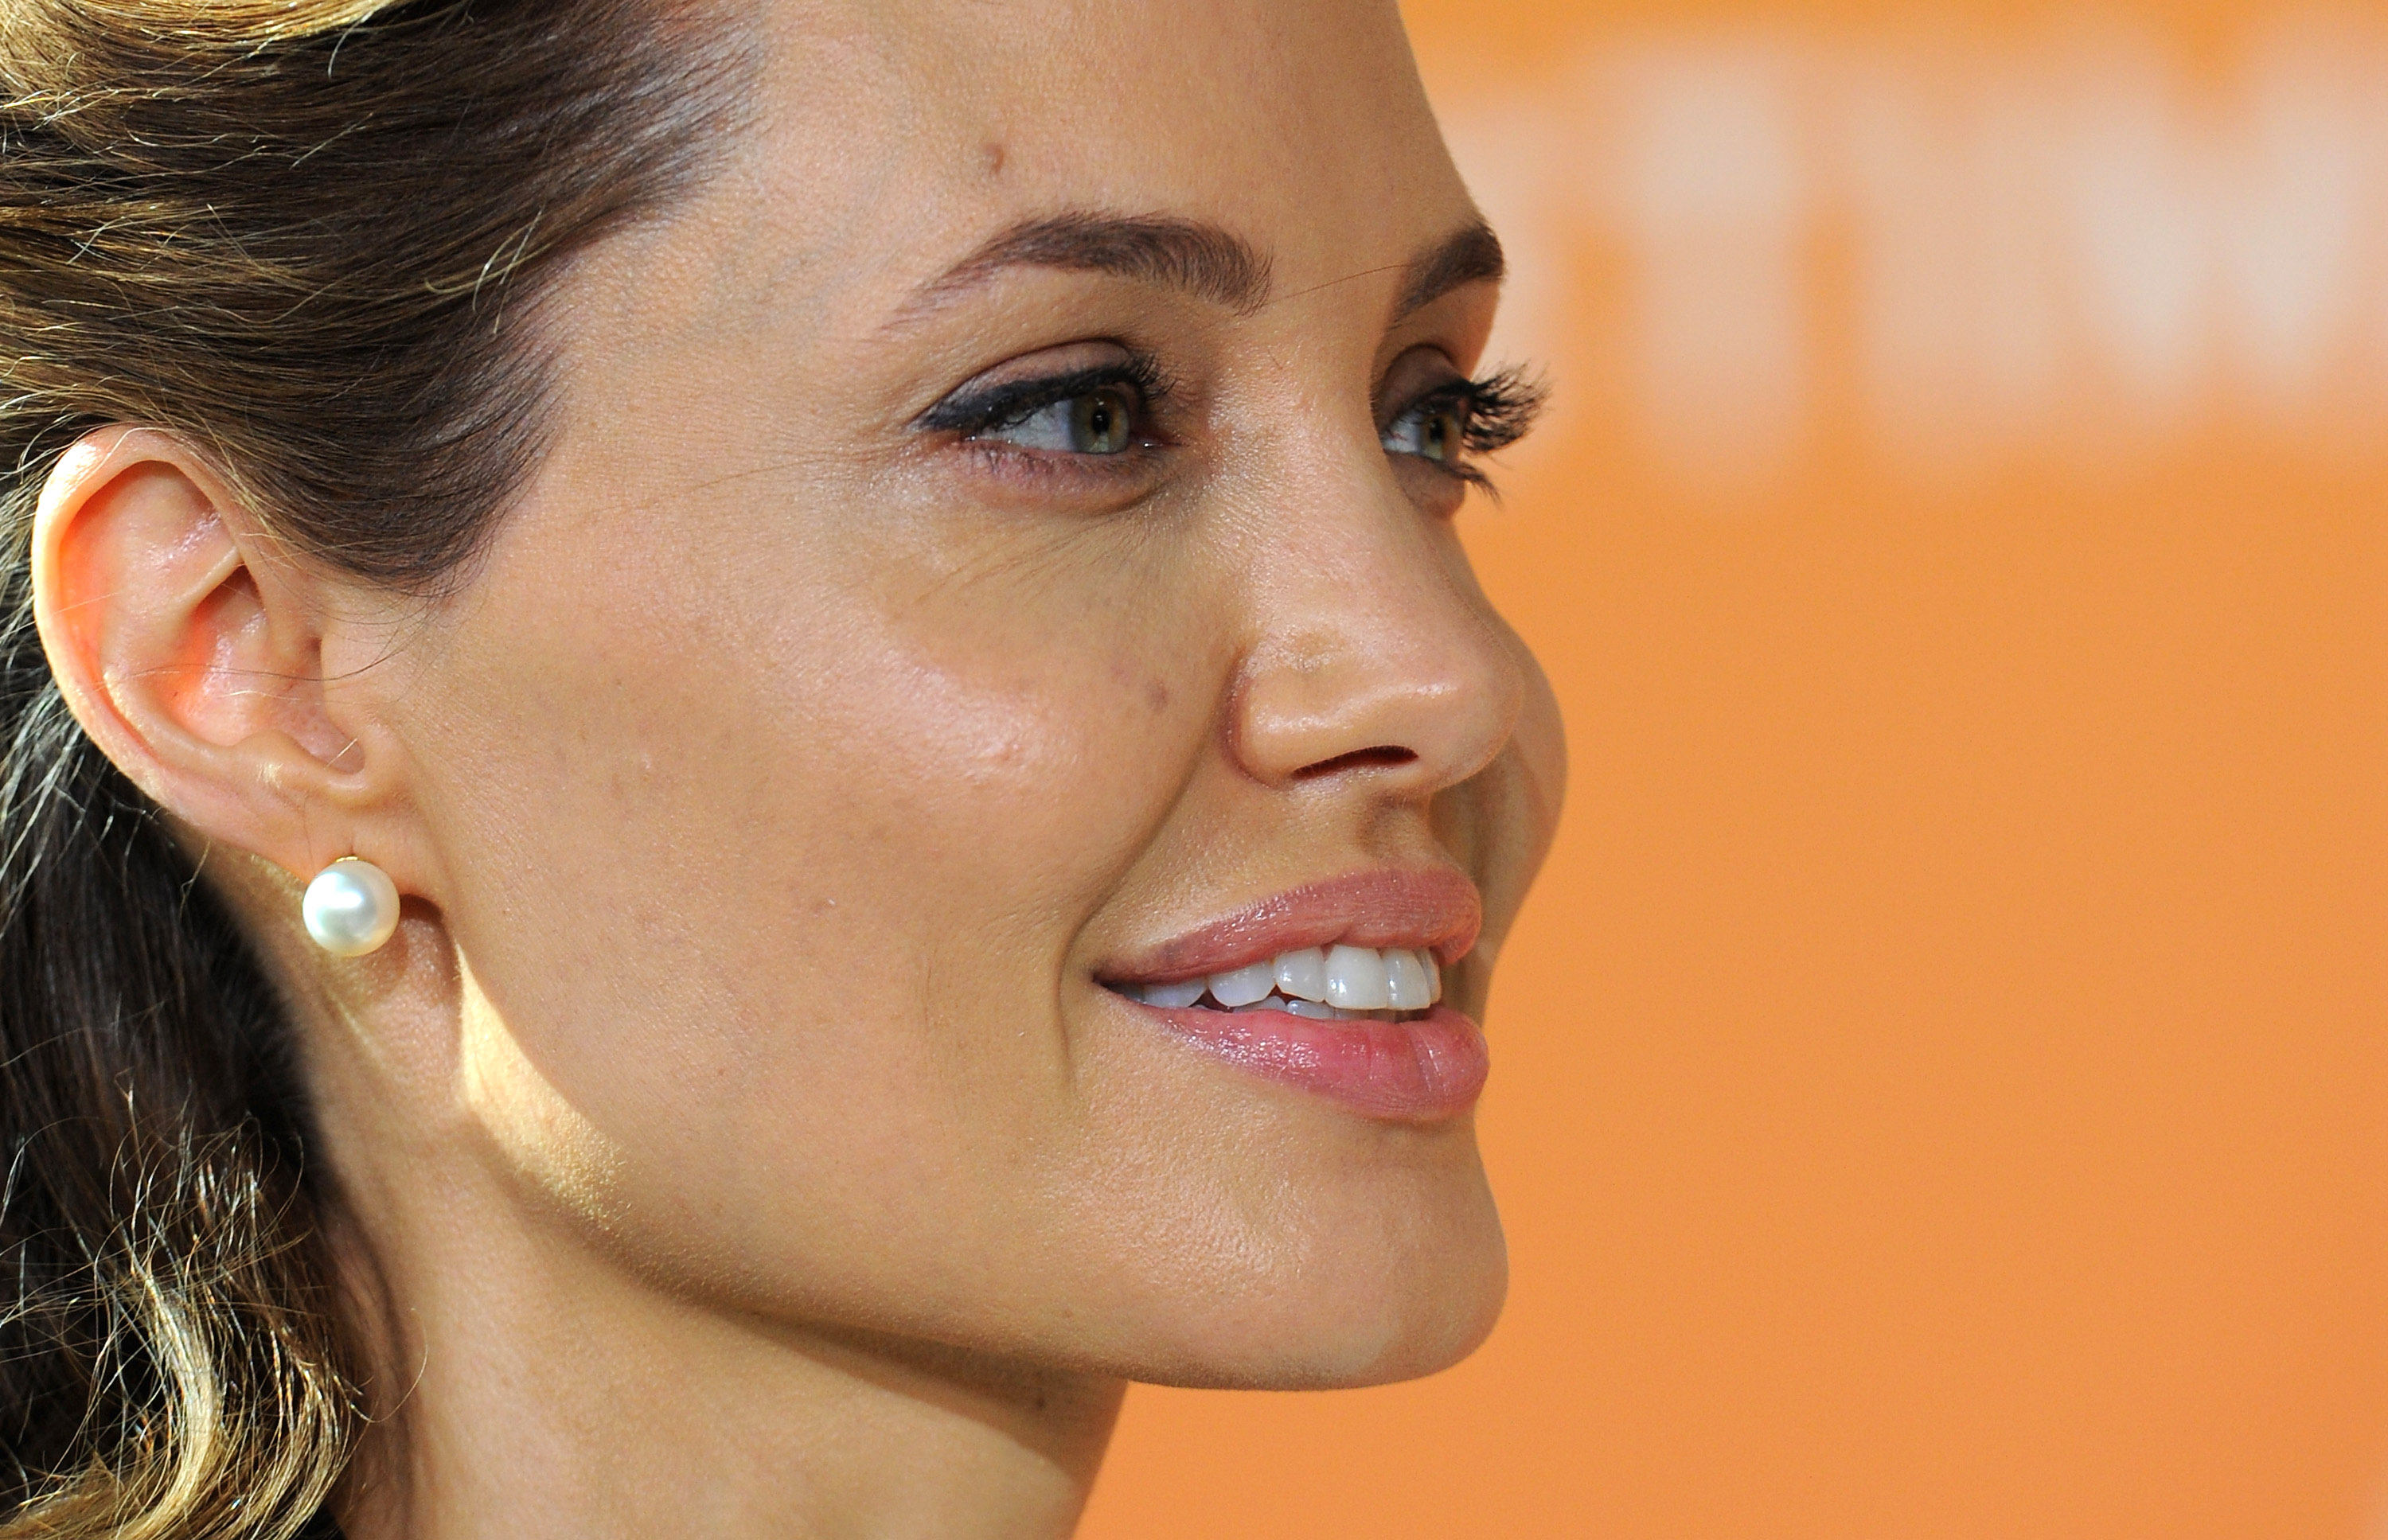mole: (1119, 640, 1196, 738), (956, 129, 1032, 195)
